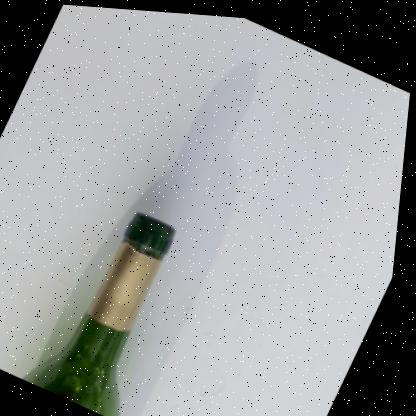Glass: (30, 211, 178, 416)
